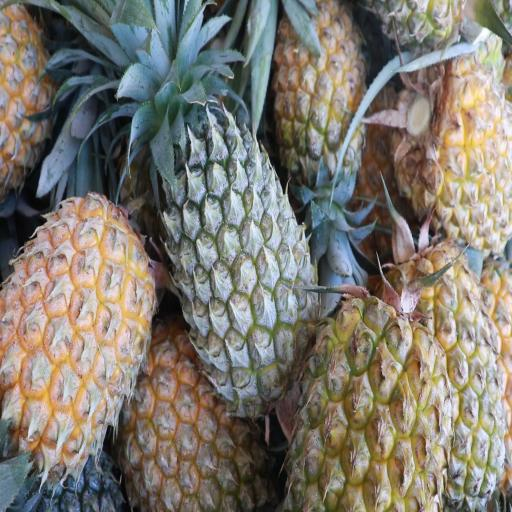------------------------------: (272, 0, 369, 204)
Pineapple - v8 v1: (1, 198, 150, 460), (287, 296, 439, 512), (391, 261, 504, 499), (122, 343, 275, 512), (387, 57, 512, 258)
